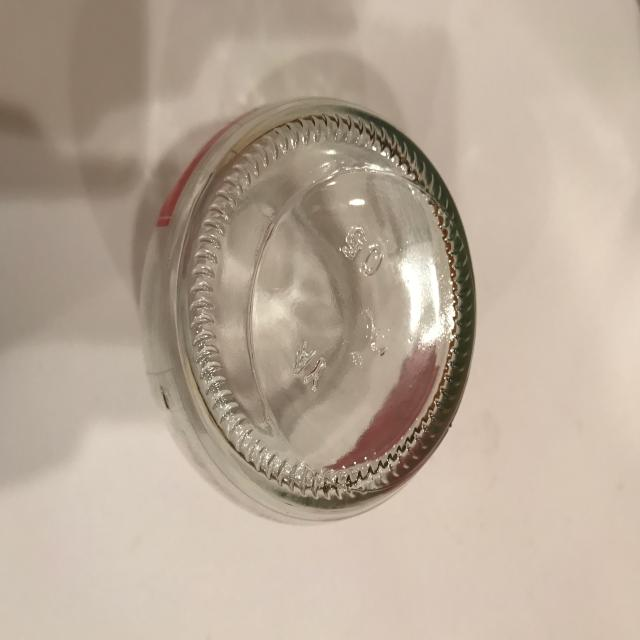glass: (135, 94, 477, 526)
